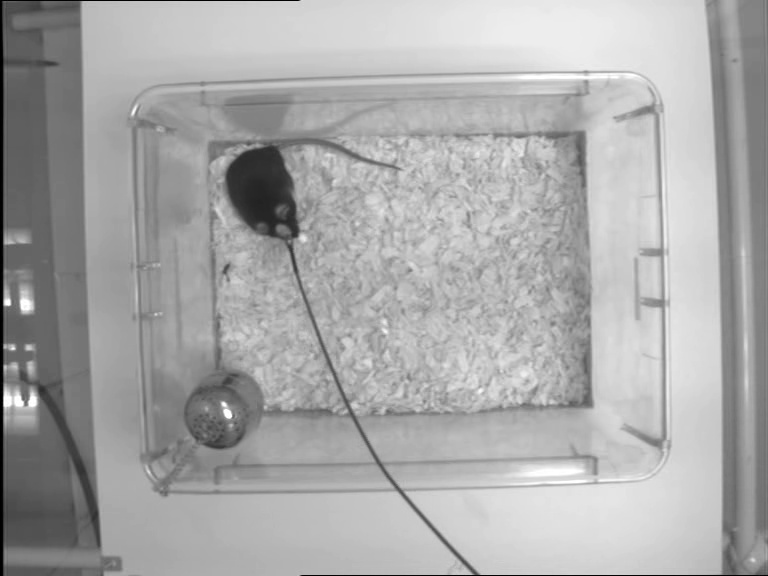mice: (225, 135, 401, 241)
